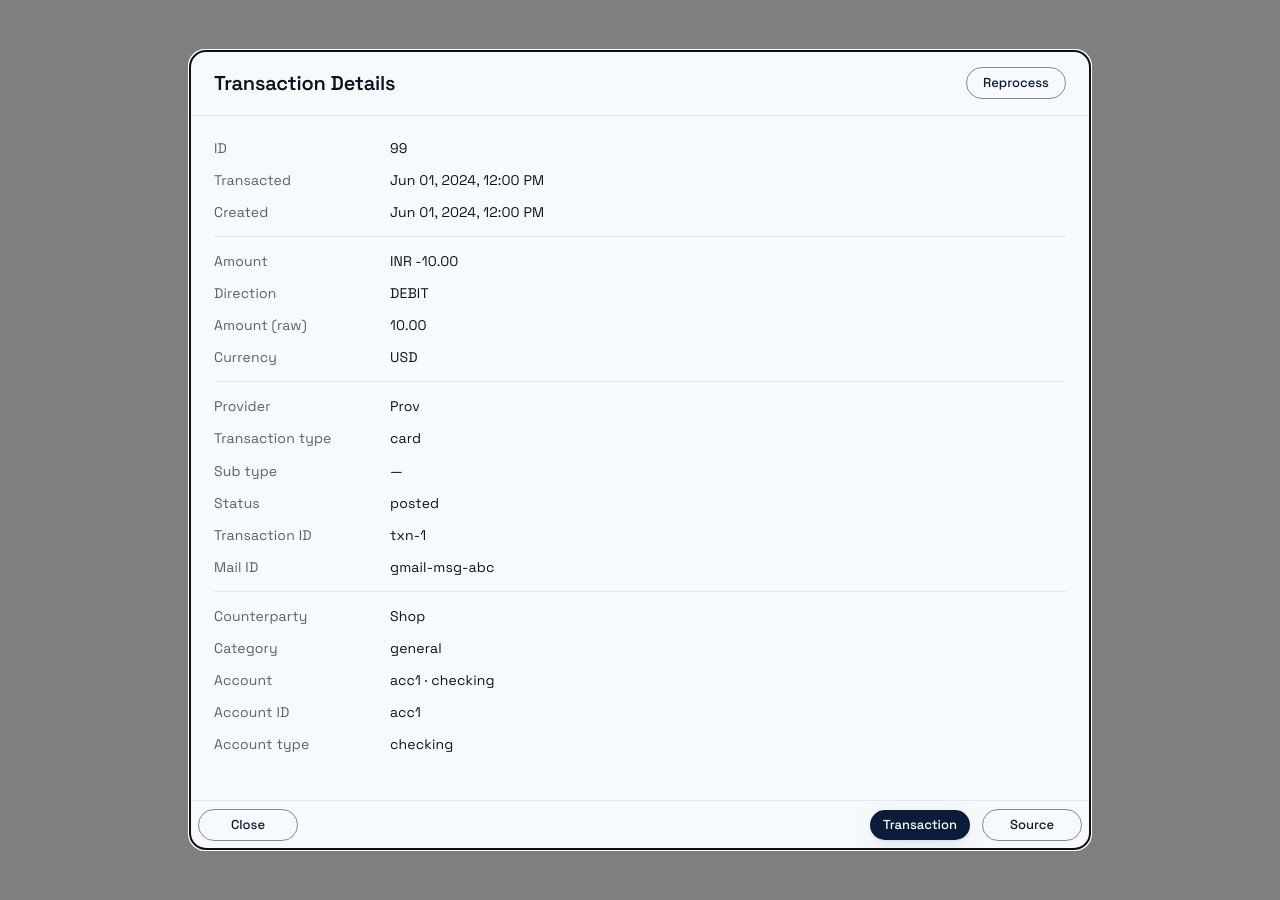
TransactionDetailDialog › shows enrichment fields when API returns enrichment
Step 1. Click the button "Source" → [1032, 825], box [982,809,1082,841]
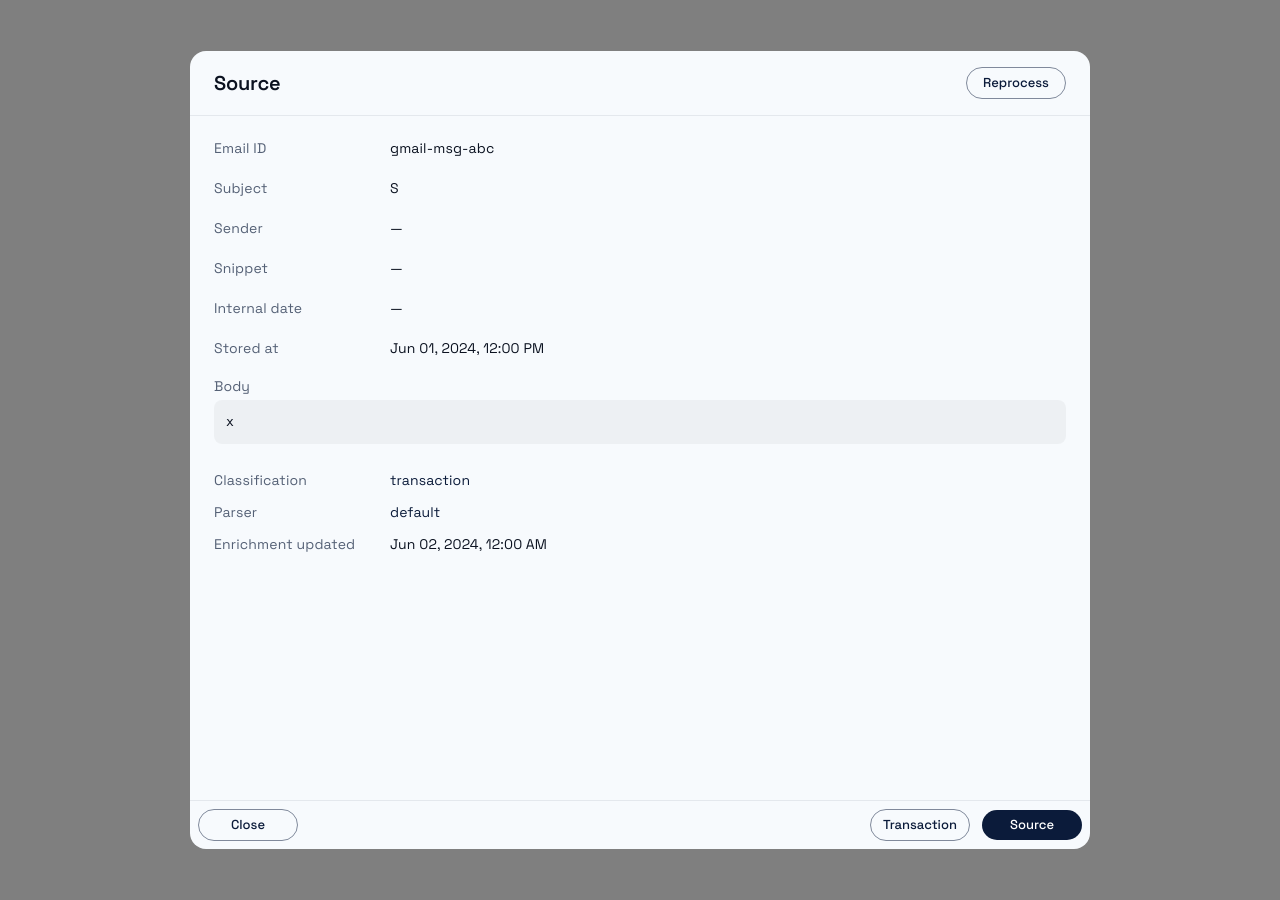
Check: the link "transaction" is shown, box [390,471,470,489]
Check: the link "default" is shown, box [390,503,440,521]
